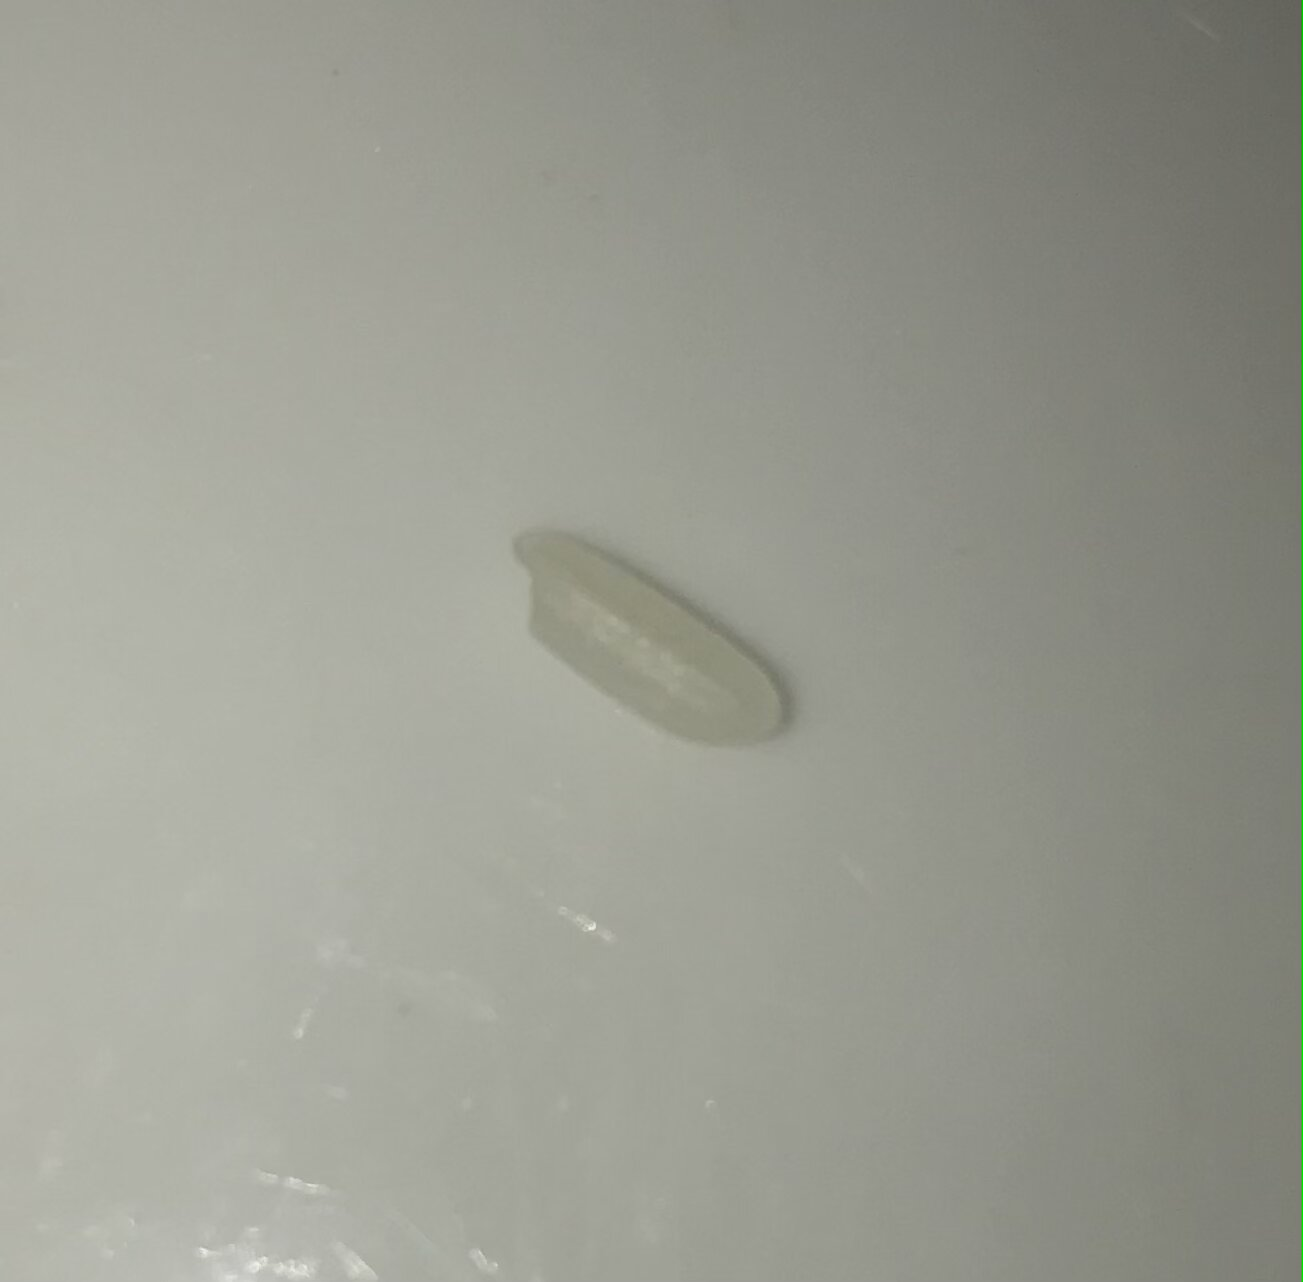Gao Lai Sua: (498, 501, 795, 765)
